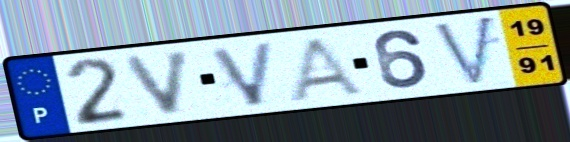2: (62, 56, 131, 128)
6: (371, 27, 433, 92)
A: (285, 34, 370, 102)
V: (119, 46, 196, 118), (429, 12, 499, 89), (206, 38, 279, 109)
